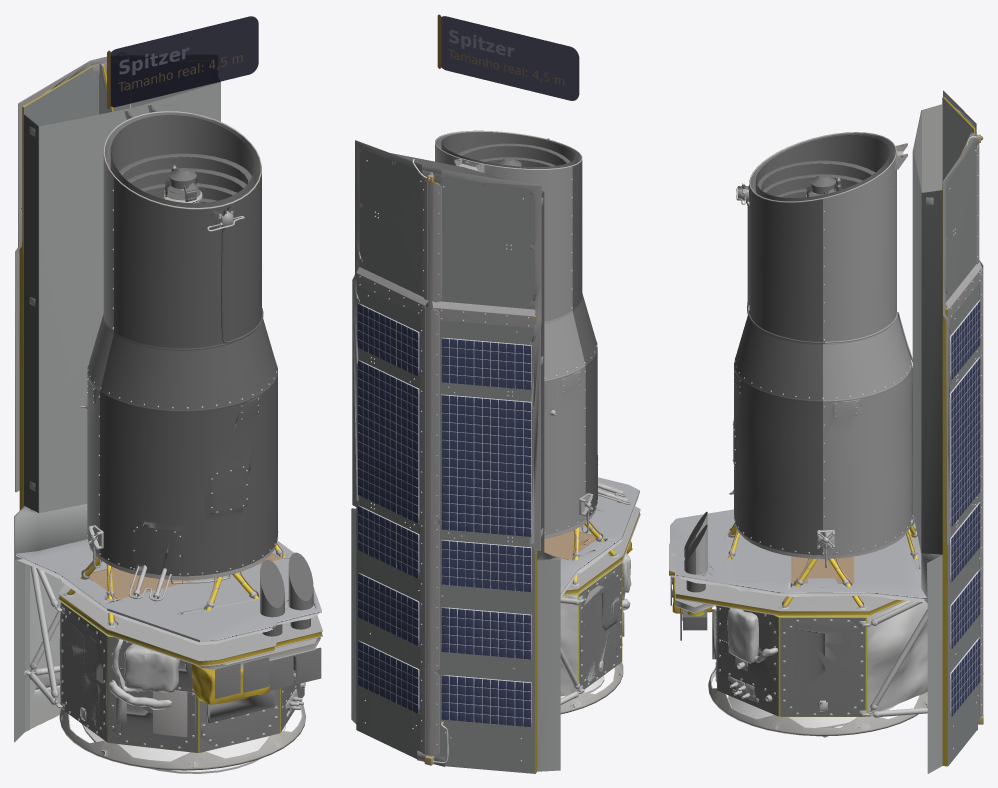
File: spitzer.glb
The picture shows the model from 3 angles, left to right: view 1: azimuth 30°, elevation 25°; view 2: azimuth 150°, elevation 25°; view 3: azimuth 270°, elevation 25°; orthographic projection. The views are drawn at different scales.
Parts seen in each view (by area): view 1: Fake, cartao; view 2: Fake, cartao; view 3: Fake.
Boxes of the visible parts, x1,y1,x2,y2 form: Fake: (14, 56, 322, 773); cartao: (107, 16, 258, 108); Fake: (351, 130, 640, 773); cartao: (437, 14, 579, 100); Fake: (669, 90, 983, 773).
Bounding box in the file's own units: 1.62 × 5.06 × 2.11.
44 materials, 1 textured.
